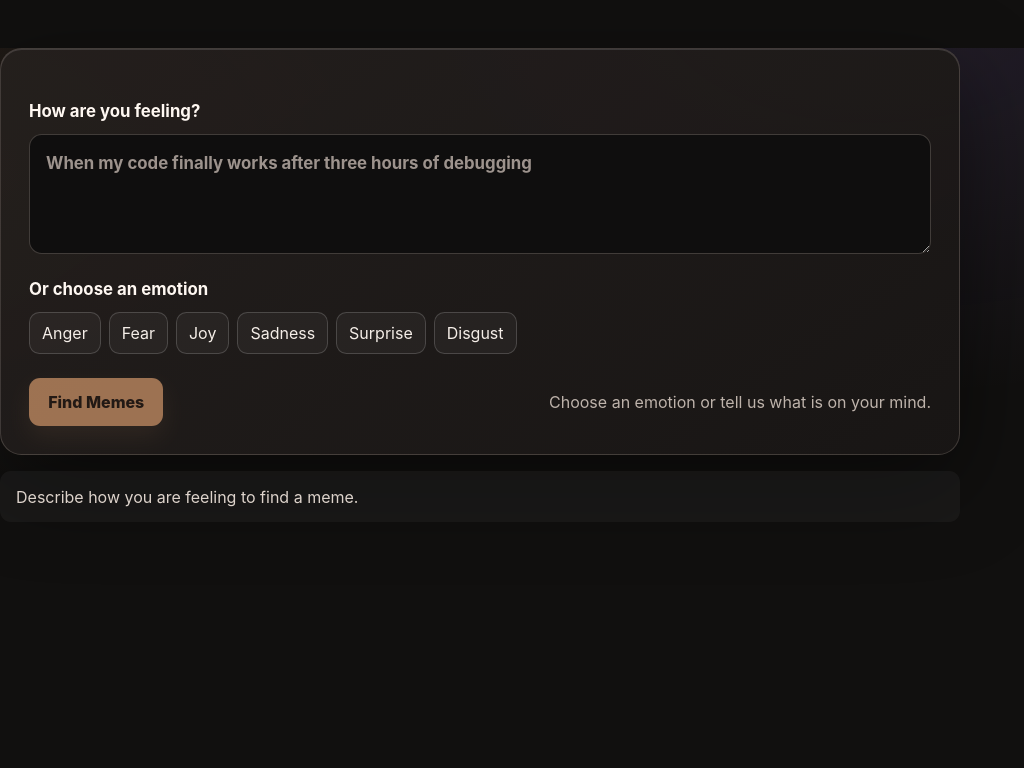
Test: Phase 7 text recommendations › posts text, shows detected emotions, and limits cards to five
The width and height of the screenshot is (1024, 768).
Expected: the button "Find Memes" is disabled, x1=29 y1=378 x2=164 y2=426
Type "I finally passed my exam" into the text box labelled "How are you feeling?" at (480, 194), box x1=29 y1=134 x2=931 y2=254
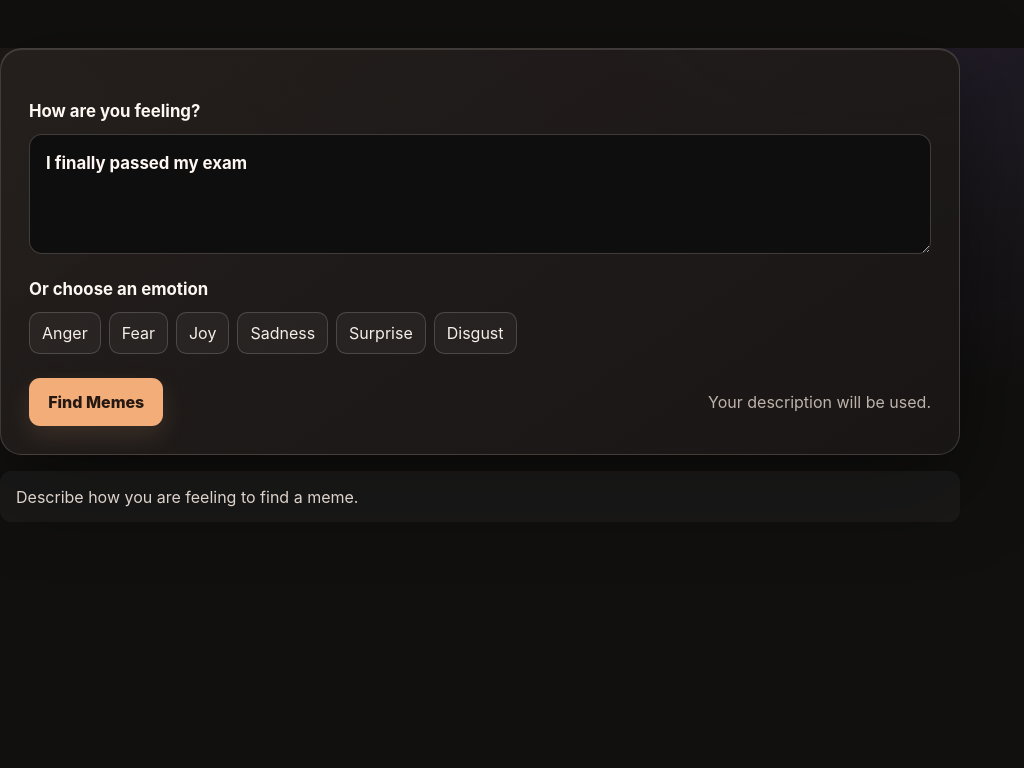
Click the button "Find Memes" at (96, 402), box x1=29 y1=378 x2=164 y2=426
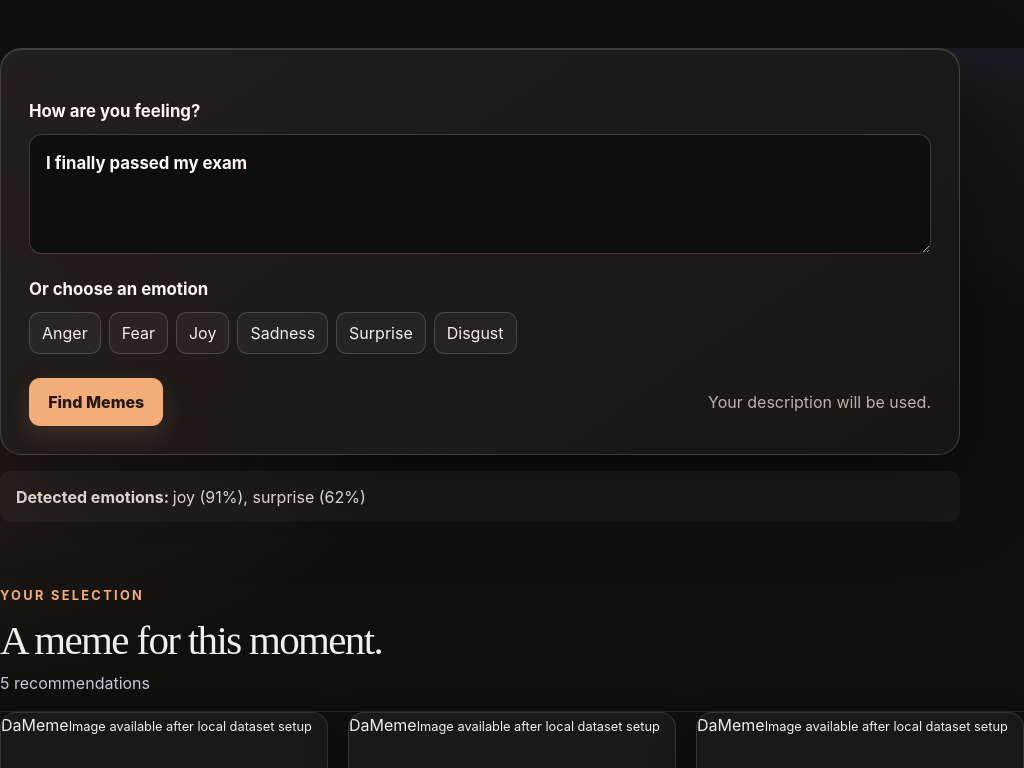
Expected: the text "joy (91%), surprise (62%)" is shown, x1=173 y1=487 x2=366 y2=507
